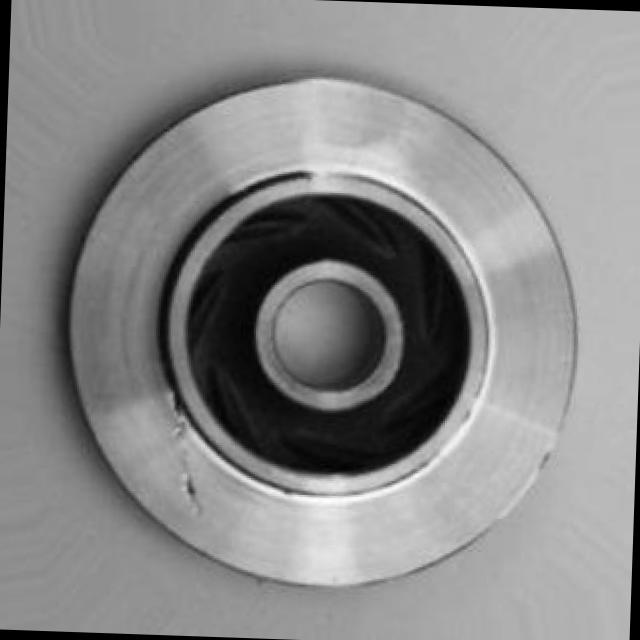Defect: (175, 464, 208, 512)
